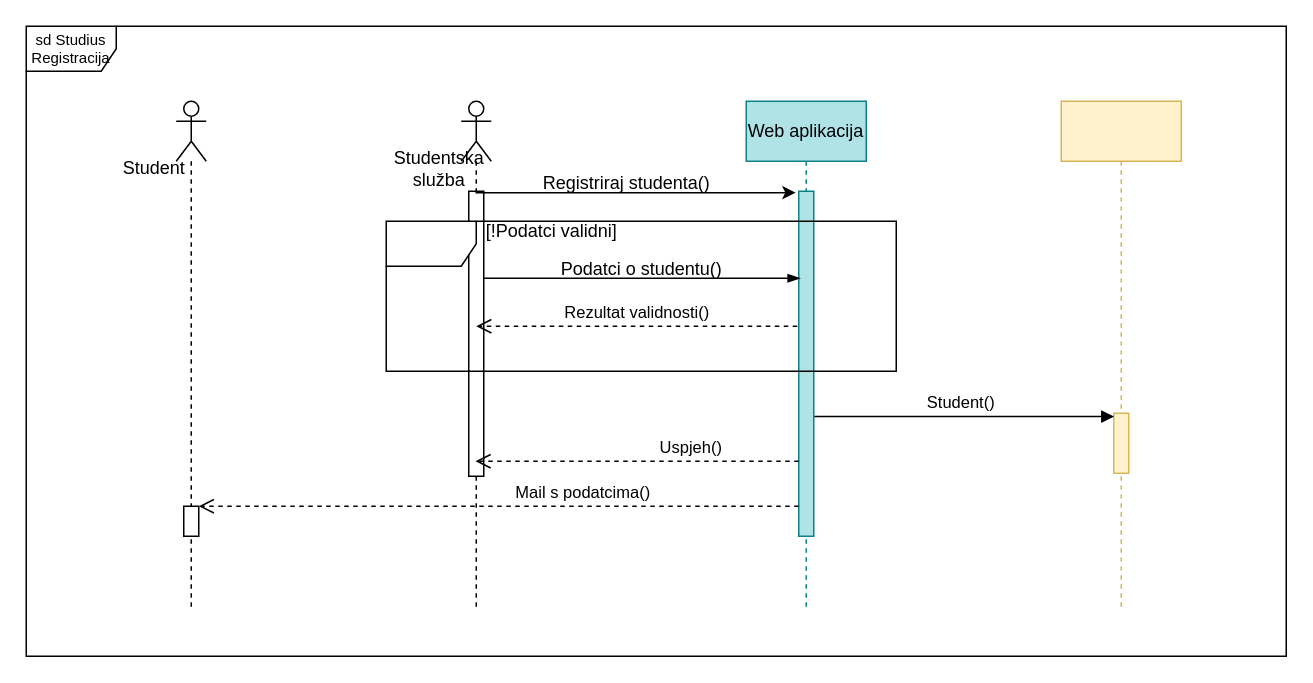
The diagram is 1313 pixels wide and 683 high, and some of its shapes have lost their labels. The shapes that lost their labels are listed below. From the top down, each one's box as (x1, y1, x2, y2) in pixels, then its label:
(385, 220, 896, 371): loop
(1060, 100, 1181, 611): Baza podataka
